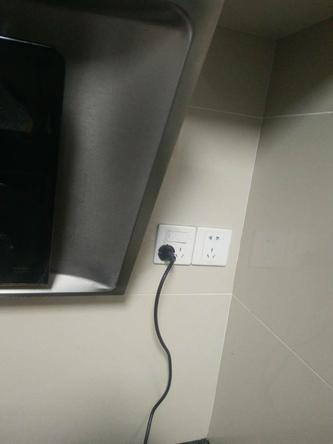switch: (162, 229, 193, 242)
